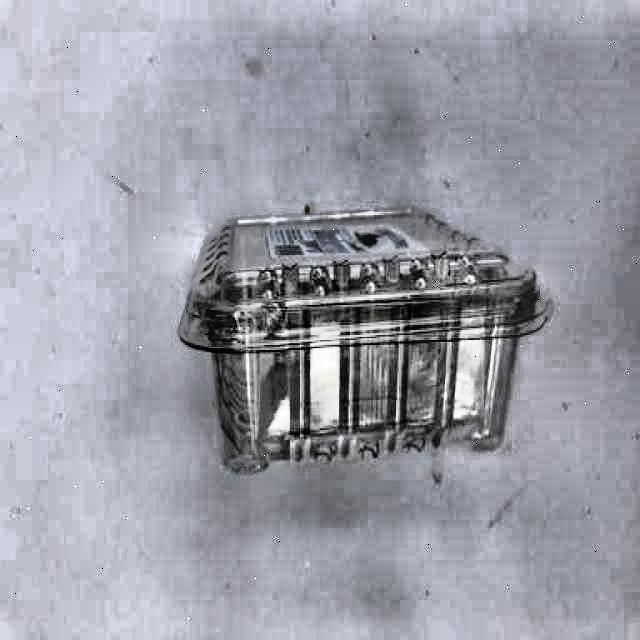plastic: (177, 208, 554, 479)
